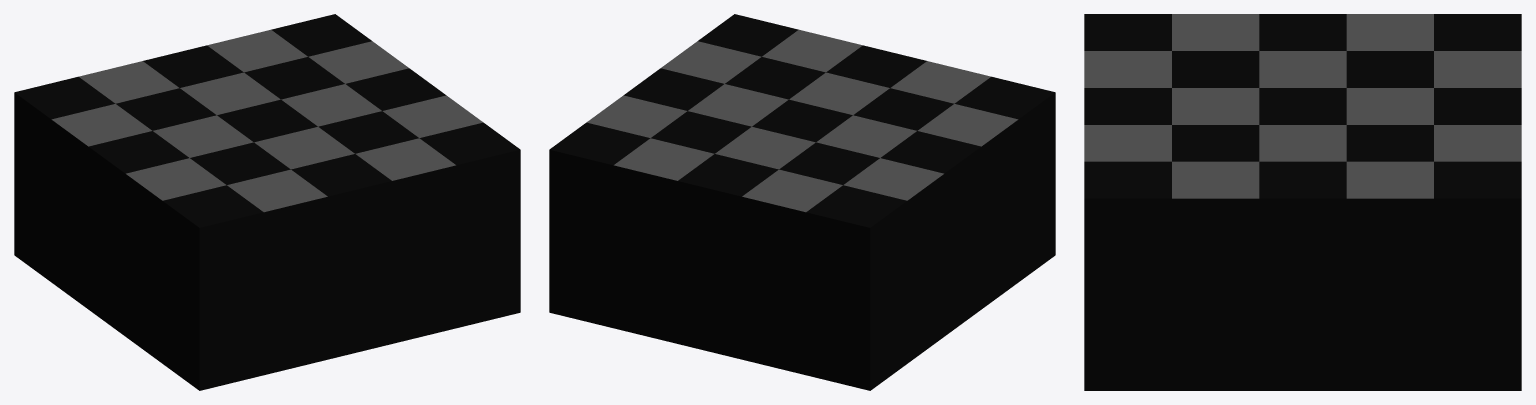
3 renders of one model, left to right at view 1: azimuth 30°, elevation 25°; view 2: azimuth 150°, elevation 25°; view 3: azimuth 270°, elevation 25°, orthographic. The views are drawn at different scales.
Parts seen in each view (by area): view 1: 0.Front; view 2: 0.Front; view 3: 0.Front.
Part boxes in pixels (x1,y1,x2,y2): 0.Front: (14,14,520,390); 0.Front: (549,14,1055,390); 0.Front: (1084,14,1521,390).
Bounding box in the file's own units: 5 × 2.43 × 5.
